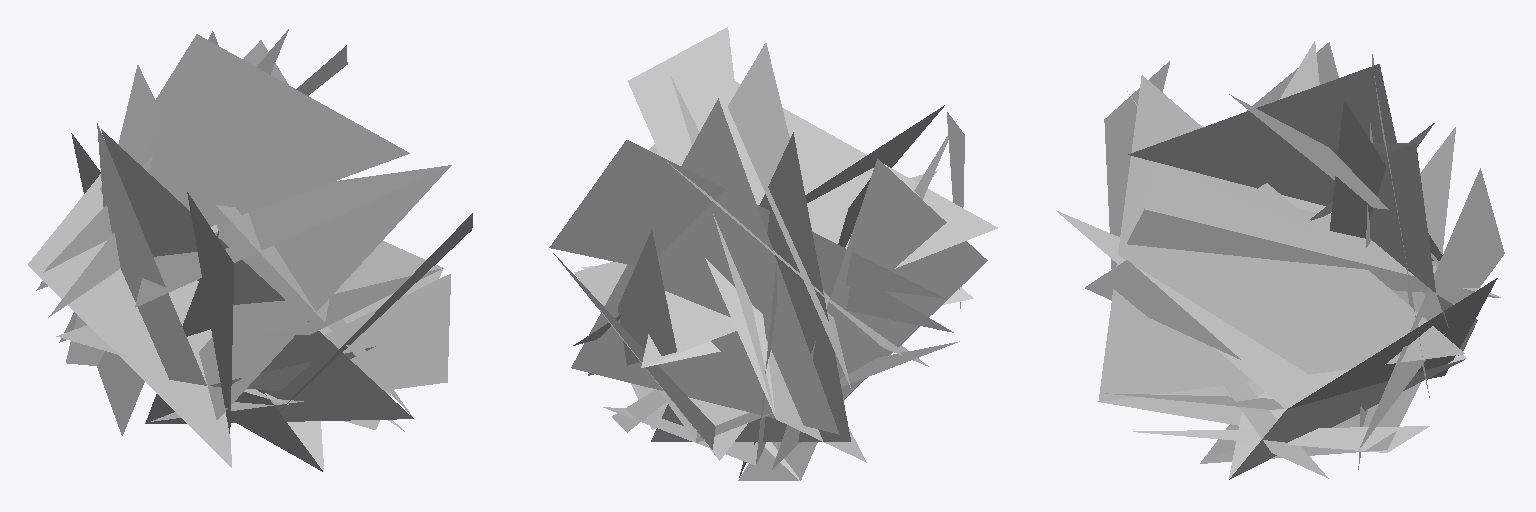
Rendered from demo..obj.
The picture shows the model from 3 angles: view 1: azimuth 30°, elevation 25°; view 2: azimuth 150°, elevation 25°; view 3: azimuth 270°, elevation 25°; orthographic projection.
Bounding box in the file's own units: 31.63 × 29.69 × 31.15.